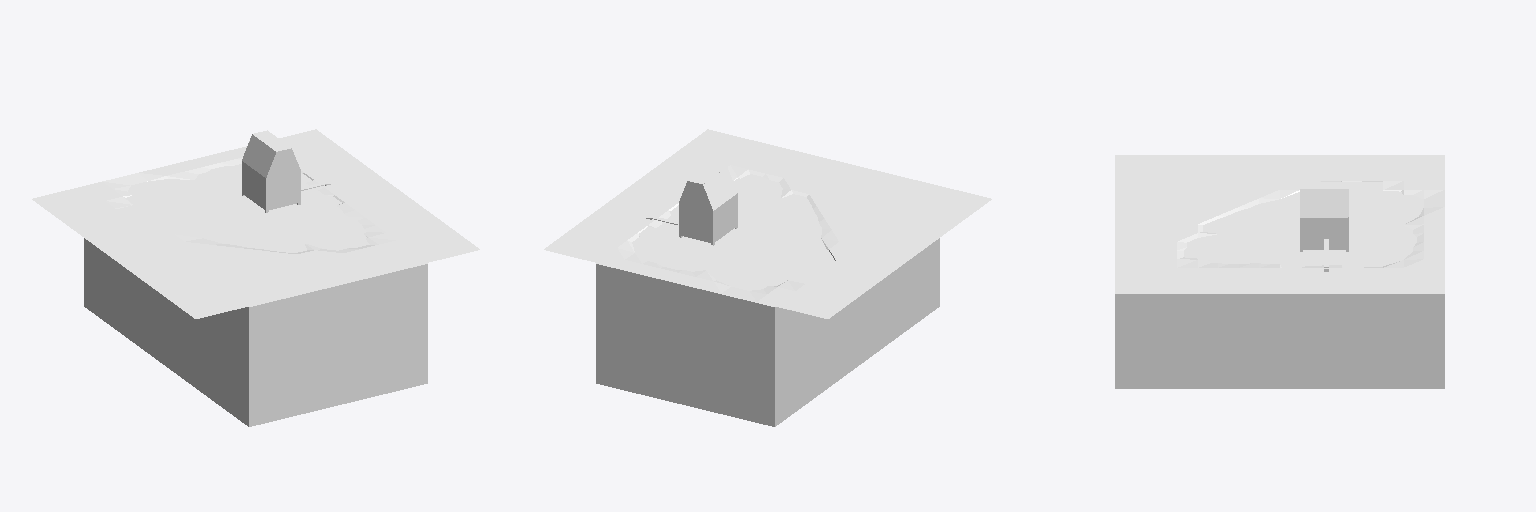
The model's file is riverhouse_source_scale.obj.
3 renders of one model, left to right at view 1: azimuth 30°, elevation 25°; view 2: azimuth 150°, elevation 25°; view 3: azimuth 270°, elevation 25°, orthographic.
Visible parts, largest first — view 1: riverhouse_bsp_export; view 2: riverhouse_bsp_export; view 3: riverhouse_bsp_export.
Boxes of the visible parts, x1=… form: riverhouse_bsp_export: x1=32, y1=129, x2=479, y2=426; riverhouse_bsp_export: x1=544, y1=129, x2=991, y2=426; riverhouse_bsp_export: x1=1115, y1=155, x2=1444, y2=388.
Bounding box in the file's own units: 3008 × 1798 × 3008.